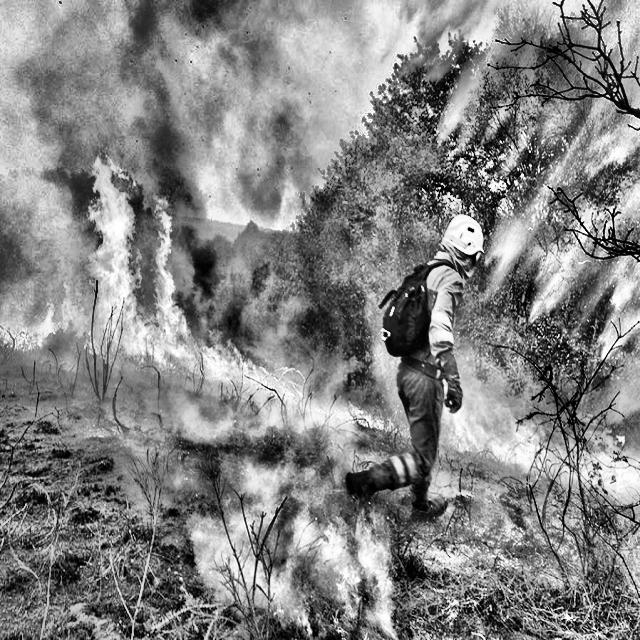fire: (292, 229, 640, 566), (6, 105, 248, 395)
